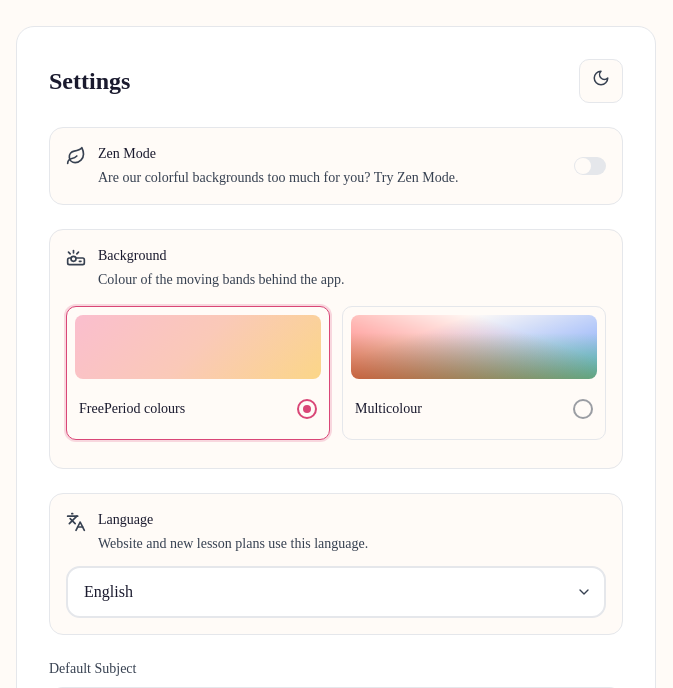
it: SettingsClient — language › surfaces an error when preferred_locale cannot be saved
Click the button with aria-label "language". click: click(108, 592)
box: [66,566,606,618]
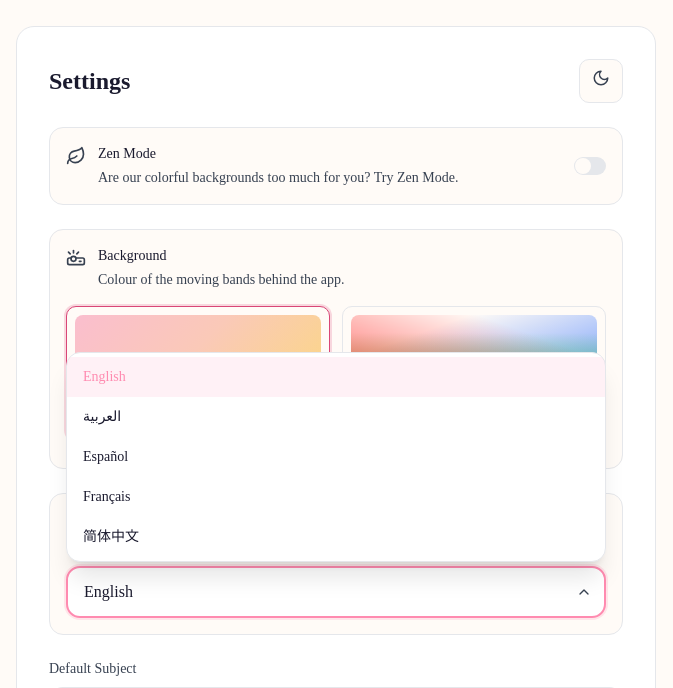
Click the option "Español". click: click(106, 456)
box: [83,449,128,464]
(page scrolled)
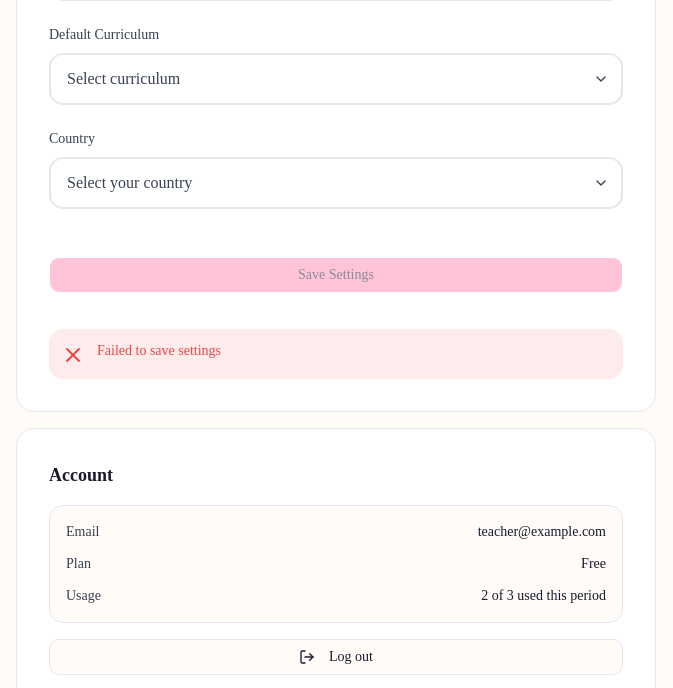
Expected: the message reads "Failed to save settings", [97,343,221,358]
